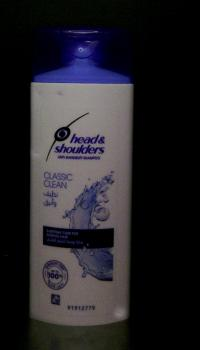dent_marginal: (33, 82, 68, 104), (111, 300, 129, 320), (30, 143, 43, 162)
